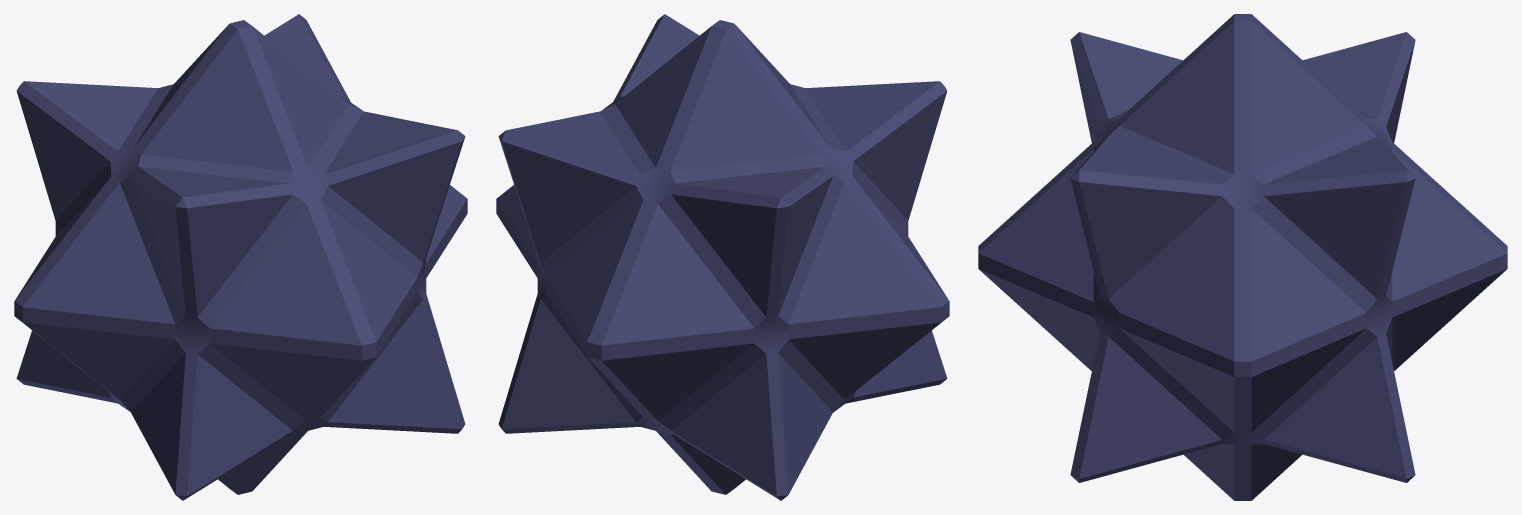
The model's file is star object dark blue.fbx.
3 views of the same model, side by side, from view 1: azimuth 30°, elevation 25°; view 2: azimuth 150°, elevation 25°; view 3: azimuth 270°, elevation 25° (orthographic). The views are drawn at different scales.
Visible parts, largest first — view 1: Cube_002; view 2: Cube_002; view 3: Cube_002.
Part boxes in pixels (box(x1,y1,x2,y2)): Cube_002: box(14, 14, 467, 500); Cube_002: box(496, 14, 949, 500); Cube_002: box(978, 14, 1507, 500).
Size of the model in its own units: 141 by 141 by 141.
